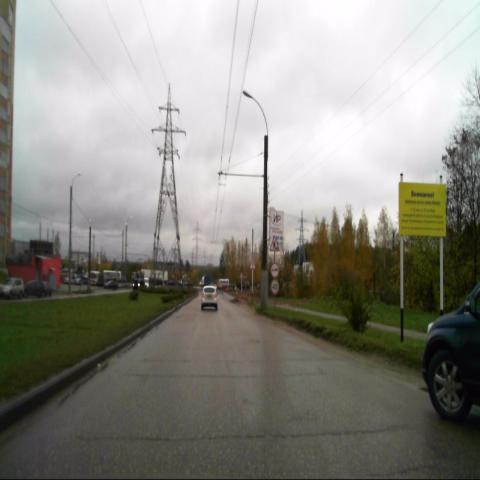1_25: (270, 235, 280, 251)
3_20: (270, 261, 279, 278)
3_24: (271, 279, 279, 294)
